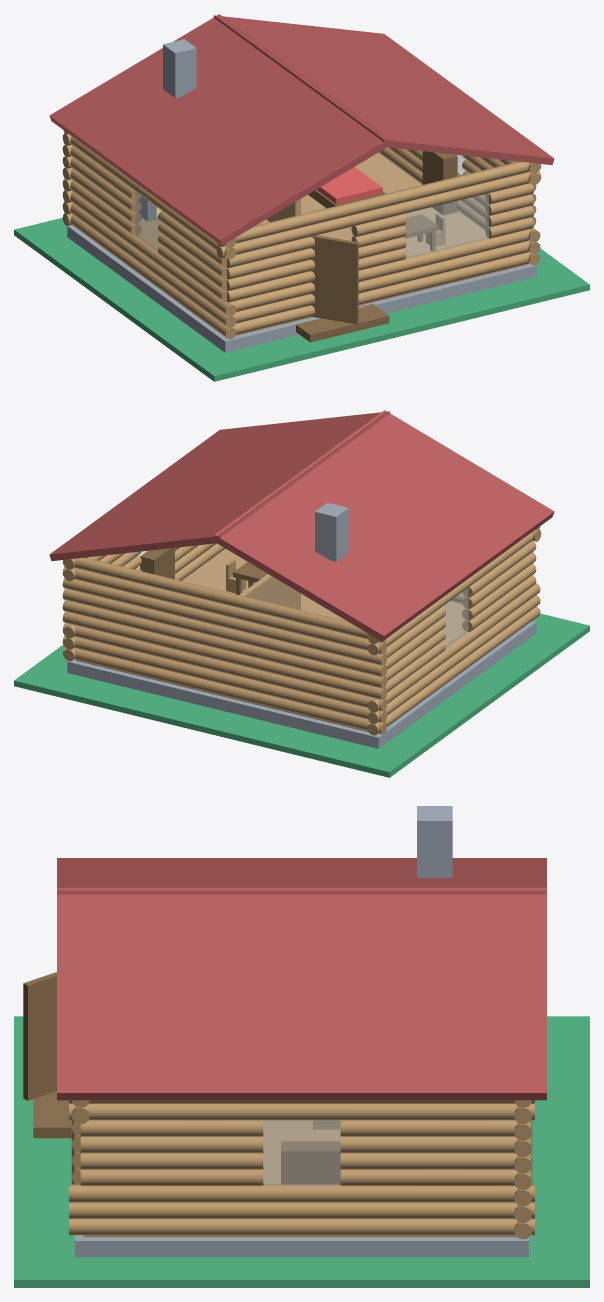
File: wooden_house_model.glb
The picture shows the model from 3 angles, top to bottom: view 1: azimuth 30°, elevation 25°; view 2: azimuth 150°, elevation 25°; view 3: azimuth 270°, elevation 25°; orthographic projection. The views are drawn at different scales.
Parts seen in each view (by area): view 1: WoodenHouseWithInterior, RemovableRoof, InteriorFurniture; view 2: WoodenHouseWithInterior, RemovableRoof, InteriorFurniture; view 3: RemovableRoof, WoodenHouseWithInterior, InteriorFurniture.
Boxes of the visible parts, x1,y1,x2,y2 form: WoodenHouseWithInterior: (14,130,589,381); RemovableRoof: (49,14,554,245); InteriorFurniture: (138,151,457,250); WoodenHouseWithInterior: (14,526,589,777); RemovableRoof: (49,410,554,641); InteriorFurniture: (140,548,300,609); RemovableRoof: (57,806,546,1100); WoodenHouseWithInterior: (14,972,589,1287); InteriorFurniture: (281,1120,340,1184).
Size of the model in its own units: 210 by 108 by 194.
